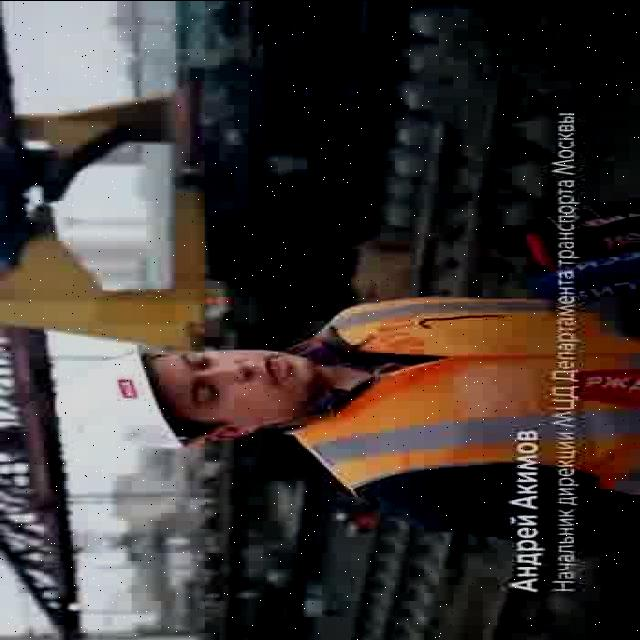Helmet: (60, 344, 188, 450)
Vest: (289, 292, 640, 497)
